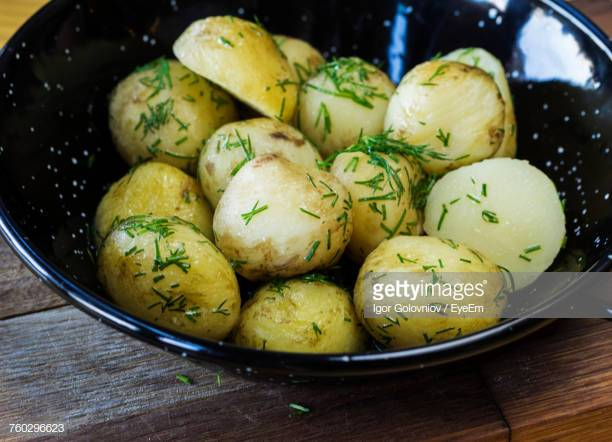boiled potatoes: (144, 51, 519, 247)
